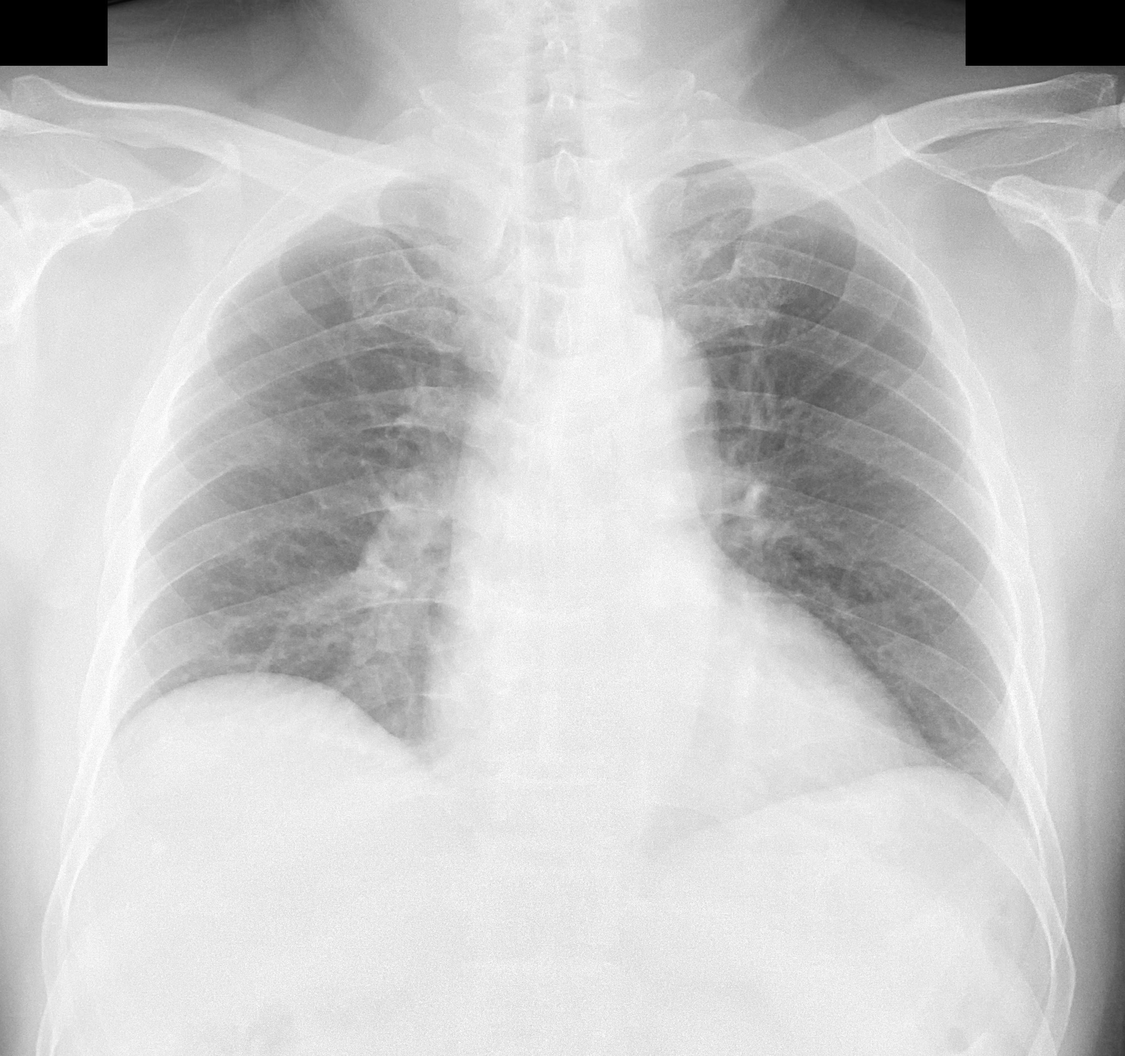Aortic enlargement: (559, 313, 713, 481)
Cardiomegaly: (412, 657, 939, 758)
